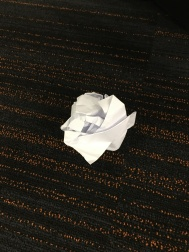paper_brown: (56, 84, 144, 167)
